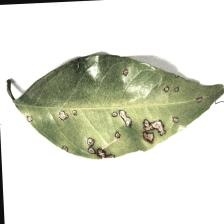greening: (23, 86, 172, 159)
